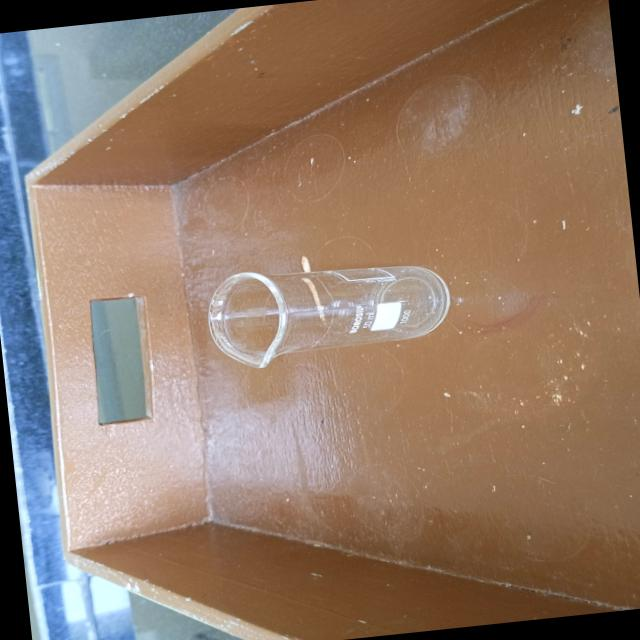beaker: (197, 246, 460, 374)
